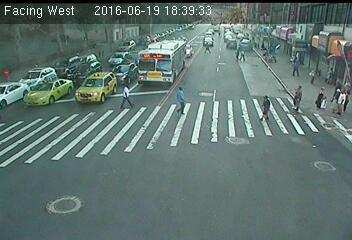neg: (88, 117, 111, 146), (322, 27, 344, 56), (40, 134, 62, 163), (158, 150, 179, 177), (61, 52, 81, 78), (223, 79, 243, 105), (303, 149, 321, 173), (187, 72, 204, 95), (150, 45, 162, 61), (290, 23, 301, 39), (255, 28, 266, 42), (171, 24, 180, 37), (234, 16, 243, 29)
pos: (256, 90, 280, 122), (170, 84, 192, 113), (288, 83, 310, 112), (311, 83, 331, 110), (116, 81, 136, 107), (288, 51, 306, 75), (335, 85, 351, 111), (235, 42, 251, 63), (201, 38, 212, 52)
